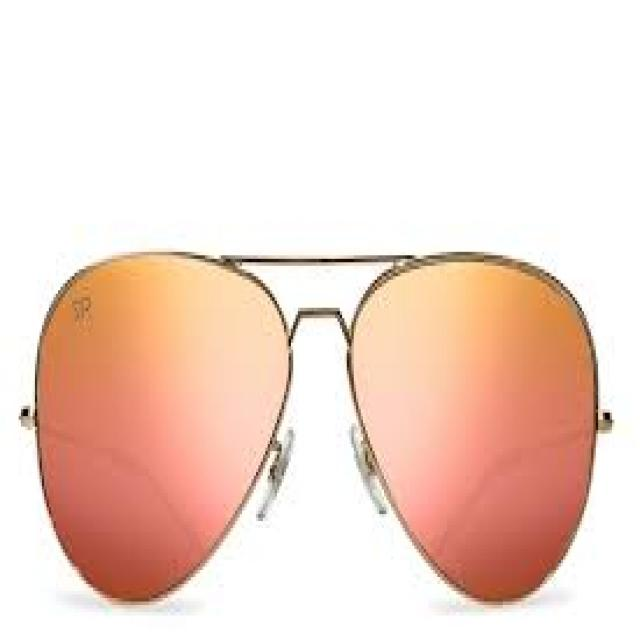suspicious-objects: (31, 243, 606, 607)
